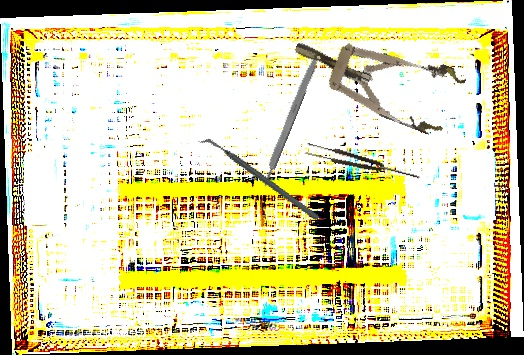Chopper: (197, 107, 321, 251)
Scalpel Handle: (258, 49, 322, 189)
Speculum: (283, 12, 469, 141)
Tissue Forceps: (304, 140, 422, 186)
